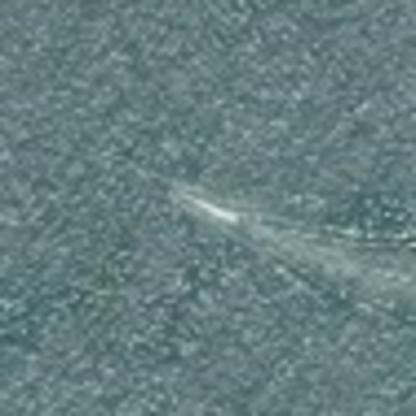ship: (170, 178, 248, 240)
